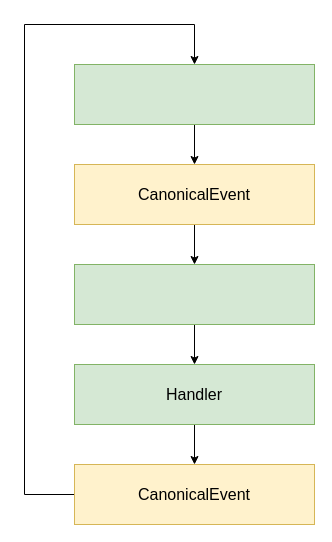
The diagram is 332 pixels wide and 542 high, and some of its shapes have lost their labels. Here are the shapes that lost their labels. From the top down, the centre of each, then its label:
At (x=194, y=94): "EventLoop".
At (x=194, y=294): "Orchestrator".
